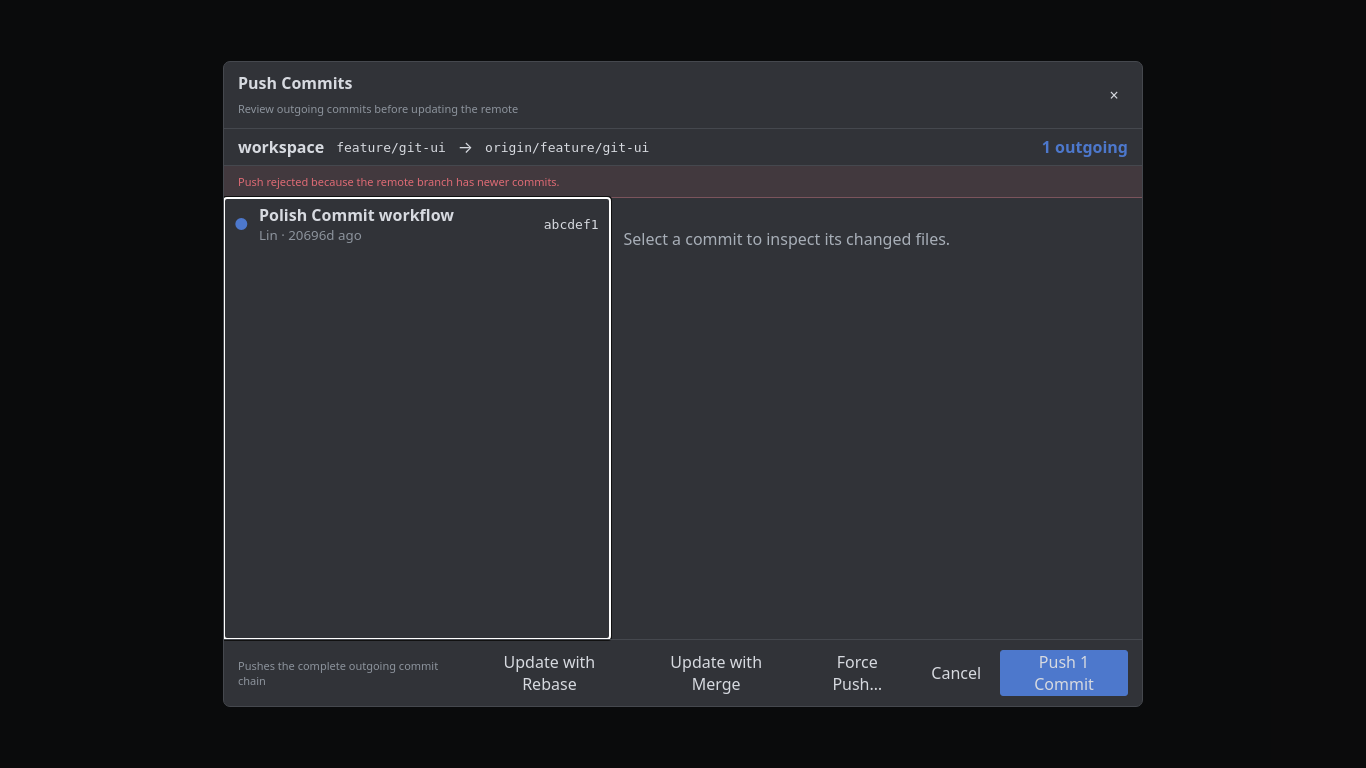
Scenario: Push Commits dialog › offers safe recovery after a rejected push
Step 1. Click the button "Update with Rebase" → (549, 672), box [469, 650, 630, 696]
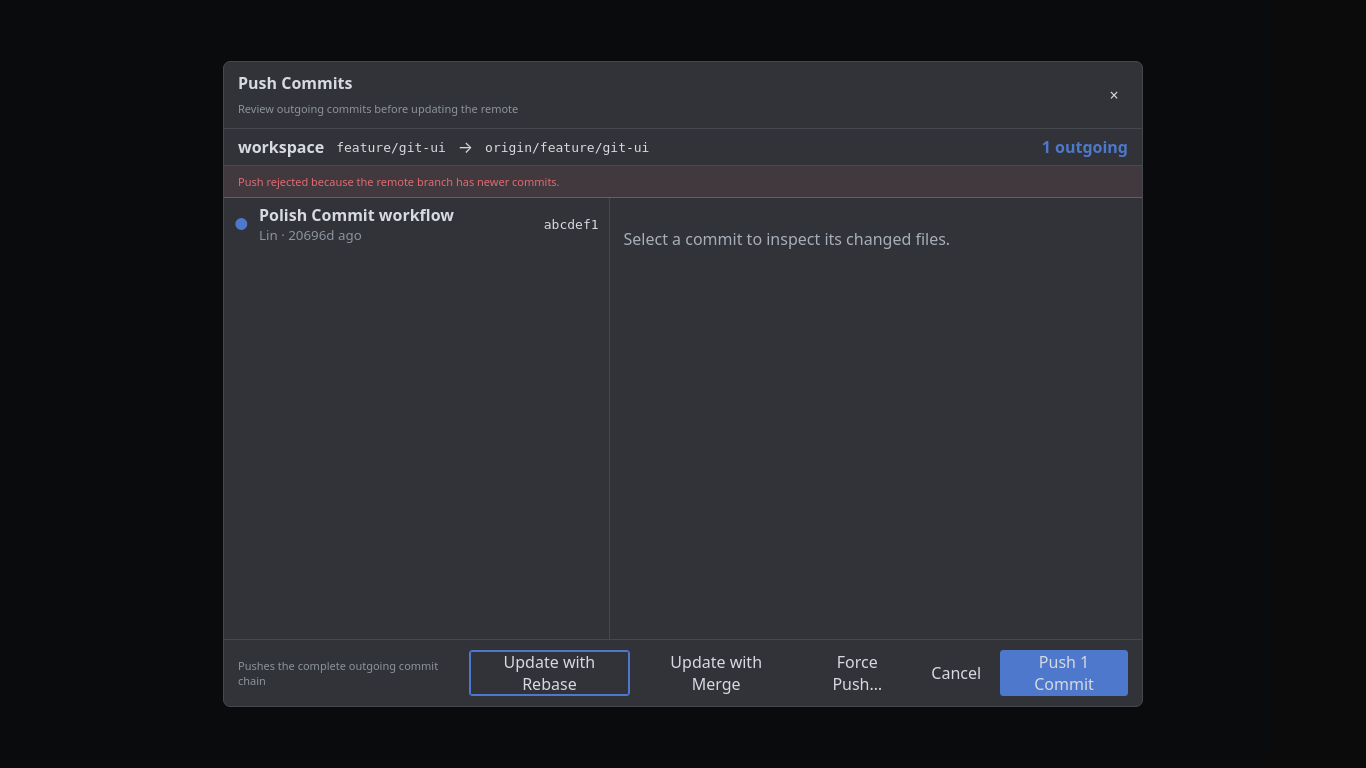
Step 2. Click the button "Force Push…" → (857, 672), box [802, 650, 912, 696]
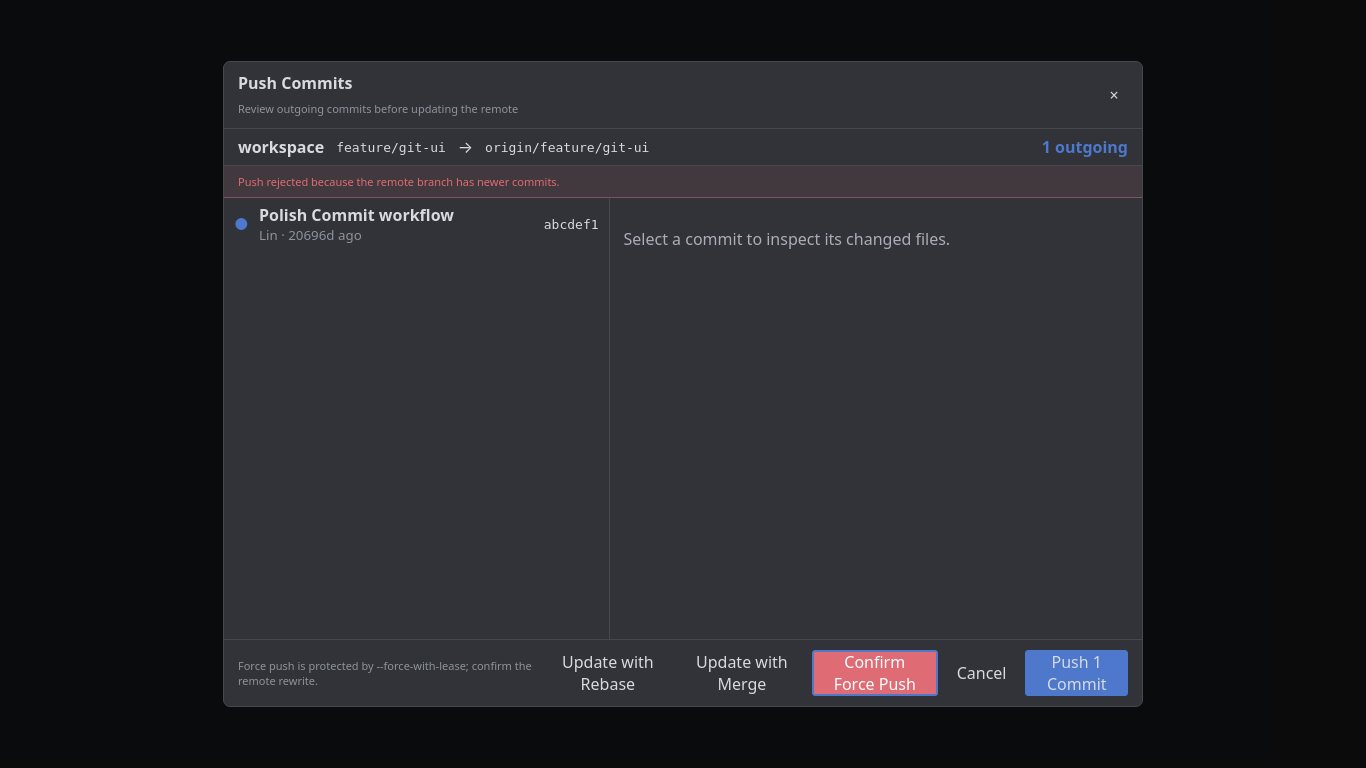
Now the button "Confirm Force Push" is shown, box [812, 650, 938, 696]
